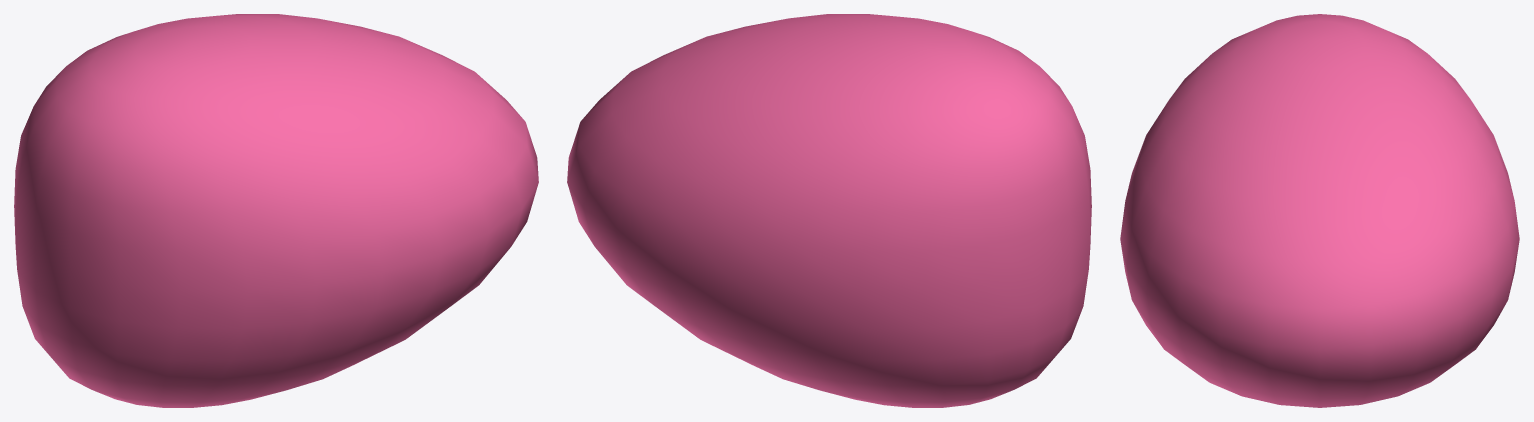
Rendered from JellyBean.glb.
The picture shows the model from 3 angles, left to right: view 1: azimuth 30°, elevation 25°; view 2: azimuth 150°, elevation 25°; view 3: azimuth 270°, elevation 25°; orthographic projection. The views are drawn at different scales.
Parts seen in each view (by area): view 1: JellyBeanShot; view 2: JellyBeanShot; view 3: JellyBeanShot.
Part boxes in pixels (x1,y1,x2,y2): JellyBeanShot: (14,14,538,407); JellyBeanShot: (567,14,1091,407); JellyBeanShot: (1120,14,1519,407).
Bounding box in the file's own units: 0.17 × 0.115 × 0.13.
